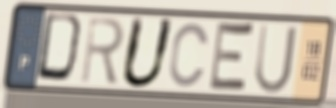C: (167, 20, 212, 90)
D: (33, 11, 88, 88)
E: (206, 18, 257, 97)
R: (78, 14, 127, 87)
U: (117, 14, 177, 91), (252, 21, 300, 96)
